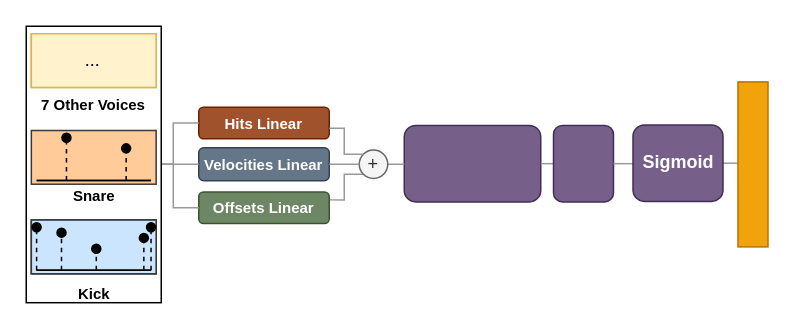
Image size: 803x336. Some labels were removed from this diagram. Here are the shapes that lost their labels. From the top down, the centre of each, then its label:
At point 472,163: "Transformer Encoder".
At point 583,163: "FCN".
At point 752,163: "Probabilities".
